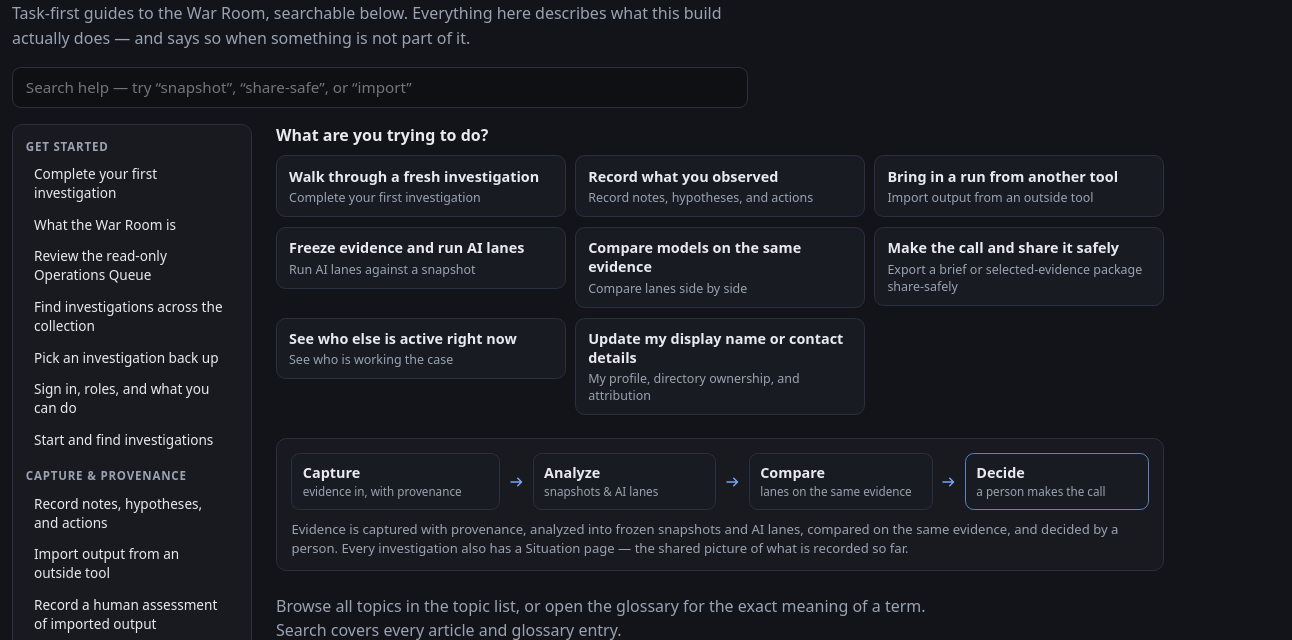
Test: help landing › opens the complete first-investigation walkthrough
The image size is (1292, 640).
Click the button "Walk through a fresh investigation" at (421, 186), box [276,155,566,217]
(page scrolled)
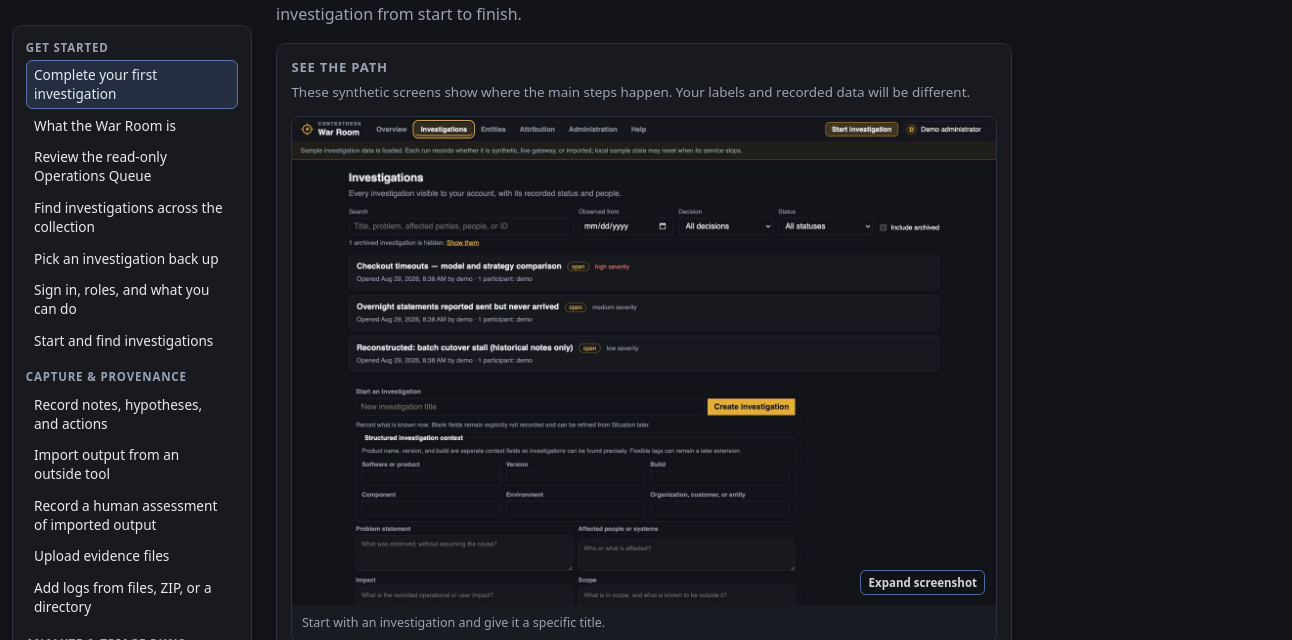
Check: the heading "See the path" is shown, box [291,58,388,76]
Check: the number of pictures is 4
Check: the picture named "Investigations page with the Start Investigation button and sample cases" is shown, box [292,117,996,605]
